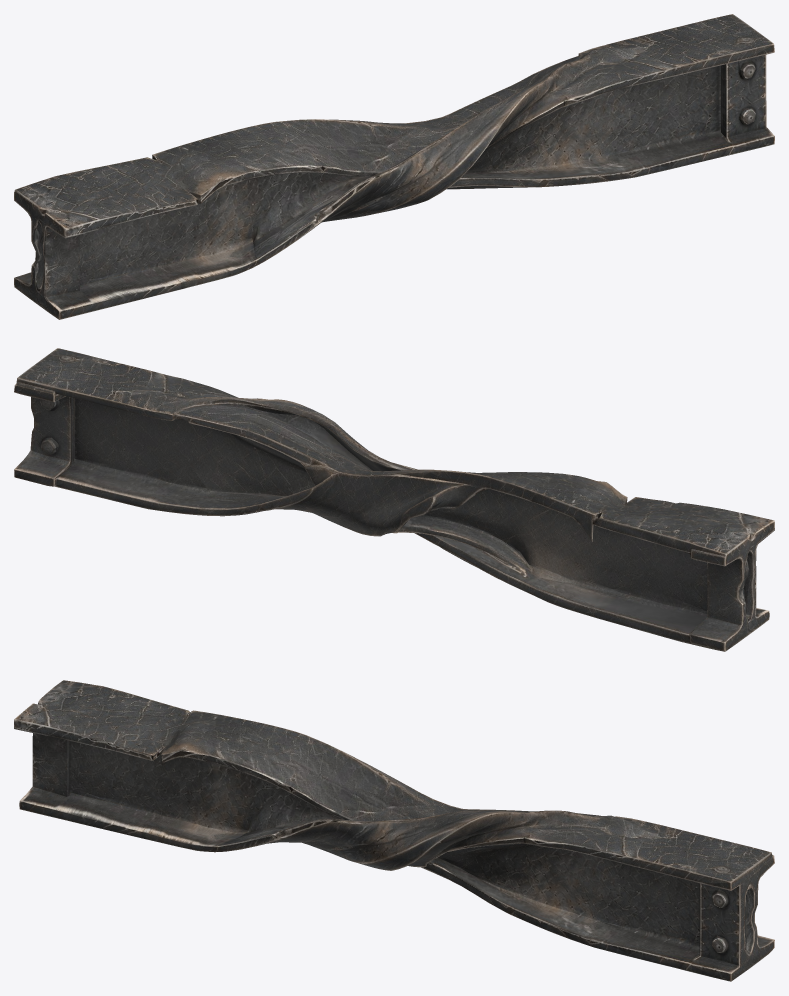
File: shared_rubble_kit__girder_long_bent.glb
3 renders of one model, top to bottom at view 1: azimuth 30°, elevation 25°; view 2: azimuth 150°, elevation 25°; view 3: azimuth 330°, elevation 25°, orthographic.
Visible parts, largest first — view 1: mesh_node; view 2: mesh_node; view 3: mesh_node.
Boxes of the visible parts, box(x1,y1,x2,y2) form: mesh_node: box(14, 14, 774, 319); mesh_node: box(14, 348, 774, 651); mesh_node: box(14, 680, 774, 981).
Size of the model in its own units: 6.1 by 0.9168 by 0.7702.
1 material, 1 textured.
